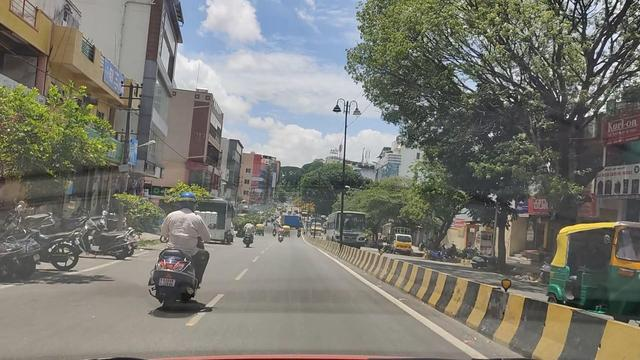LMV: (147, 170, 217, 313)
